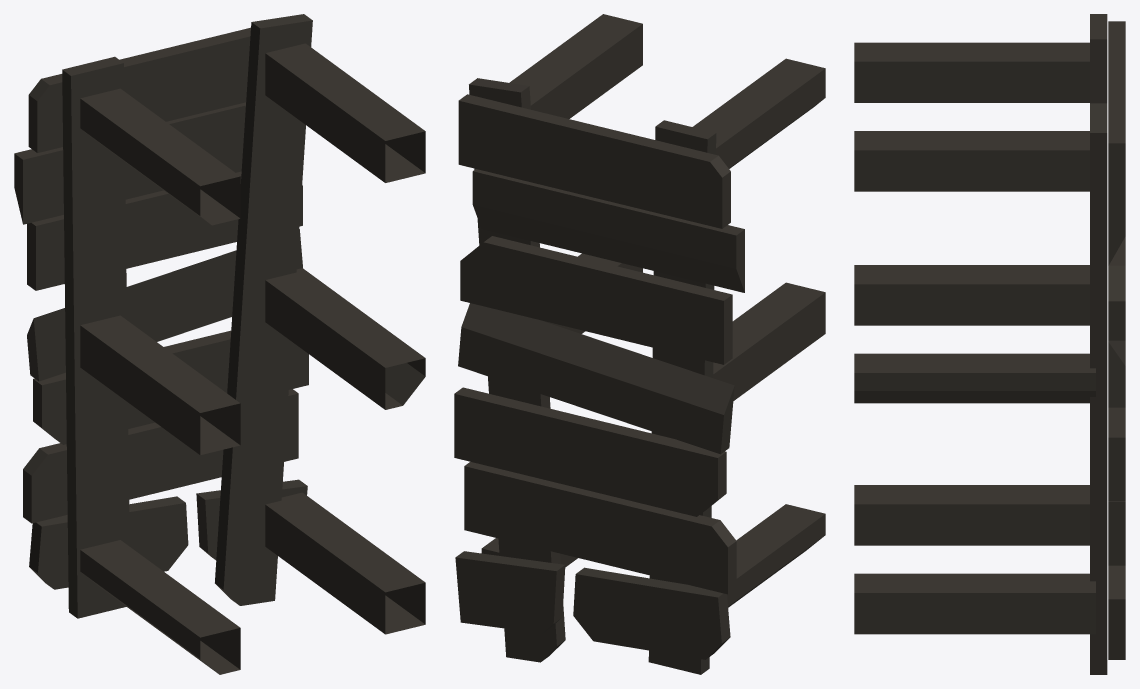
File: Bridge 01.FBX
3 views of the same model, side by side, from view 1: azimuth 30°, elevation 25°; view 2: azimuth 150°, elevation 25°; view 3: azimuth 270°, elevation 25° (orthographic).
Visible parts, largest first — view 1: Bridge 01; view 2: Bridge 01; view 3: Bridge 01.
Boxes of the visible parts, left/top/right/bottom form: Bridge 01: left=14, top=14, right=425, bottom=674; Bridge 01: left=454, top=14, right=825, bottom=674; Bridge 01: left=854, top=14, right=1125, bottom=674.
Size of the model in its own units: 143 by 119 by 274.
